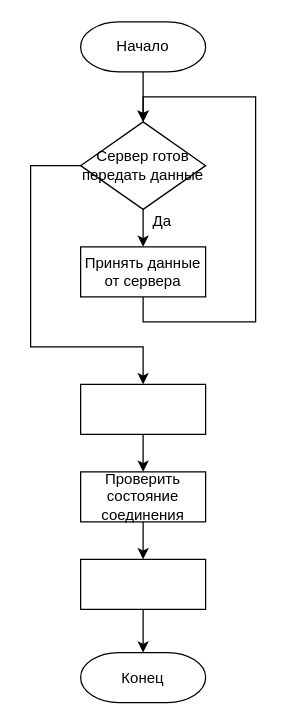
This 288x725 diagram has some shape labels left out. Here are the shapes that lost their labels. From the top down, the centre of each, then its label:
At point 142,408: "Обработать полученные данные".
At point 142,583: "Разблокировать мьютекс".
